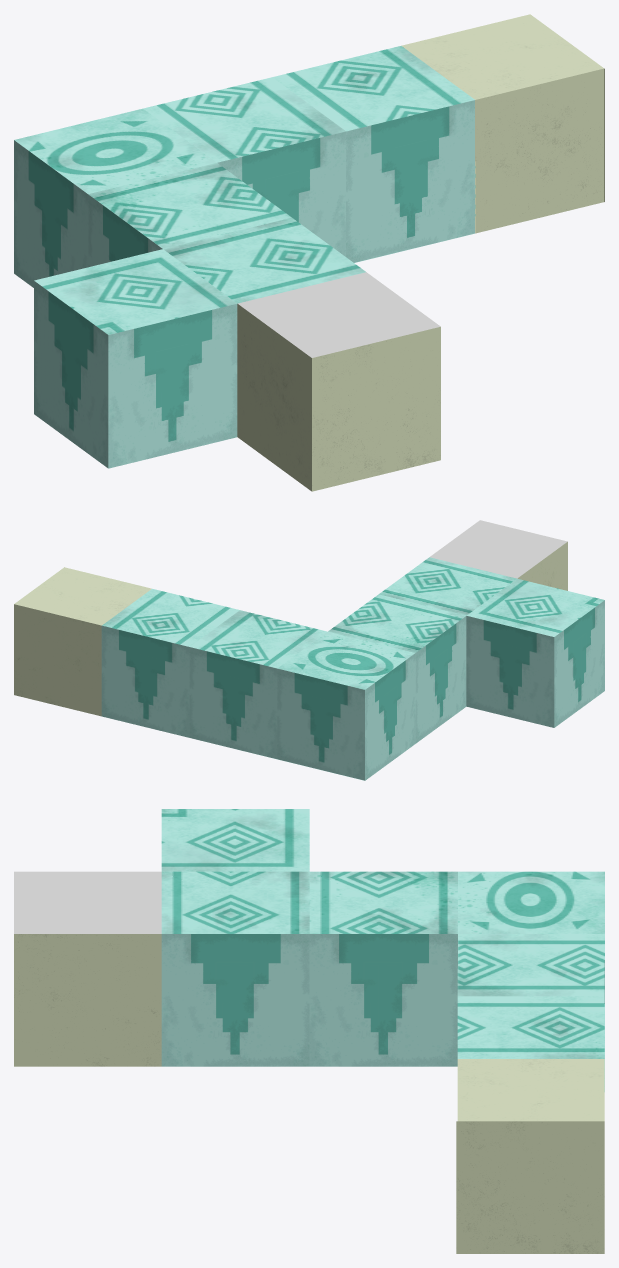
File: level03— Revise.fbx
3 renders of one model, top to bottom at view 1: azimuth 30°, elevation 25°; view 2: azimuth 150°, elevation 25°; view 3: azimuth 270°, elevation 25°, orthographic. The views are drawn at different scales.
Visible parts, largest first — view 1: Plane.051, Plane.044, Plane.033, Plane.095, Plane.041, Plane.037, Plane.035, Plane.053, Plane.052, Plane.040, Plane.048, Plane.049; view 2: Plane.051, Plane.045, Plane.034, Plane.046, Plane.096, Plane.047, Plane.049, Plane.035, Plane.048, Plane.053, Plane.052, Plane.037; view 3: Plane.051, Plane.038, Plane.039, Plane.097, Plane.094, Plane.053, Plane.052.
Boxes of the visible parts, x1,y1,x2,y2 form: Plane.051: [14, 46, 474, 334]; Plane.044: [475, 68, 604, 233]; Plane.033: [108, 304, 237, 468]; Plane.095: [312, 326, 440, 491]; Plane.041: [346, 100, 474, 262]; Plane.037: [237, 304, 311, 491]; Plane.035: [34, 281, 108, 467]; Plane.053: [238, 272, 440, 357]; Plane.052: [401, 14, 603, 99]; Plane.040: [217, 131, 345, 256]; Plane.048: [14, 140, 88, 287]; Plane.049: [88, 194, 162, 267]; Plane.051: [102, 557, 604, 689]; Plane.045: [101, 625, 189, 737]; Plane.034: [466, 616, 554, 727]; Plane.046: [189, 647, 277, 758]; Plane.096: [14, 604, 101, 716]; Plane.047: [277, 668, 364, 780]; Plane.049: [415, 616, 466, 743]; Plane.035: [554, 600, 604, 727]; Plane.048: [365, 653, 415, 780]; Plane.053: [429, 520, 567, 578]; Plane.052: [14, 567, 151, 625]; Plane.037: [517, 541, 567, 590]; Plane.051: [161, 809, 604, 1058]; Plane.038: [161, 934, 309, 1066]; Plane.039: [309, 934, 457, 1066]; Plane.097: [456, 1121, 604, 1253]; Plane.094: [14, 934, 161, 1066]; Plane.053: [14, 871, 161, 933]; Plane.052: [457, 1059, 604, 1121].
Bounding box in the file's own units: 1000 × 198 × 800.
